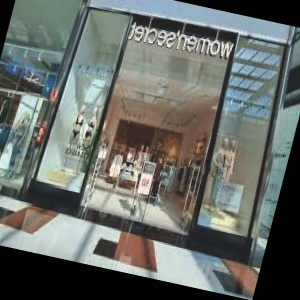women_secret: (176, 15, 296, 65)
